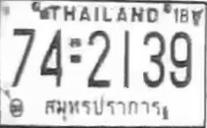1: (122, 30, 130, 88)
2: (86, 29, 110, 87)
3: (141, 30, 164, 87)
4: (38, 28, 62, 86)
7: (10, 27, 35, 87)
9: (168, 30, 192, 87)
SPK: (41, 95, 165, 120)
